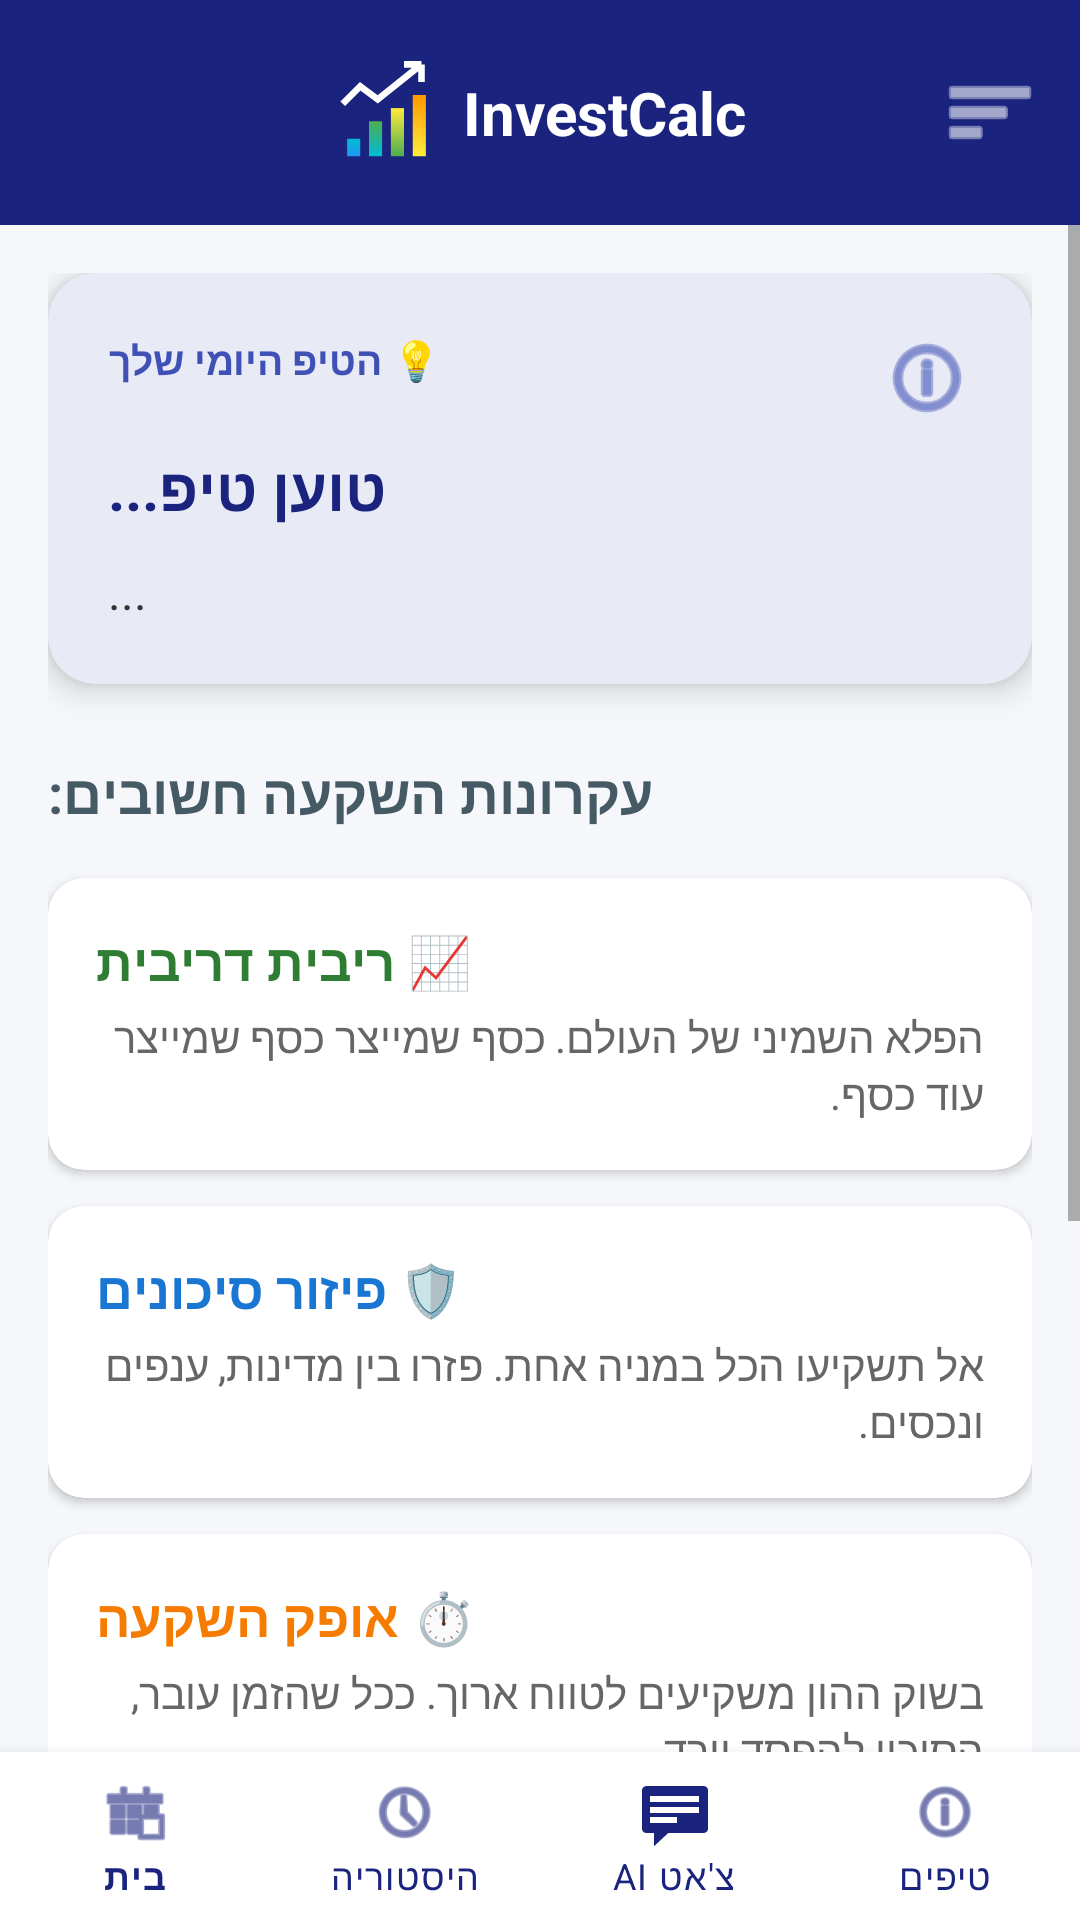

Icons on this 1080 x 1920 Android screen, each with its box as (x1, y1, x2, y2):
growth graph: (340, 61, 426, 157)
info details: (893, 344, 961, 412)
sort by size: (949, 86, 1031, 139)
